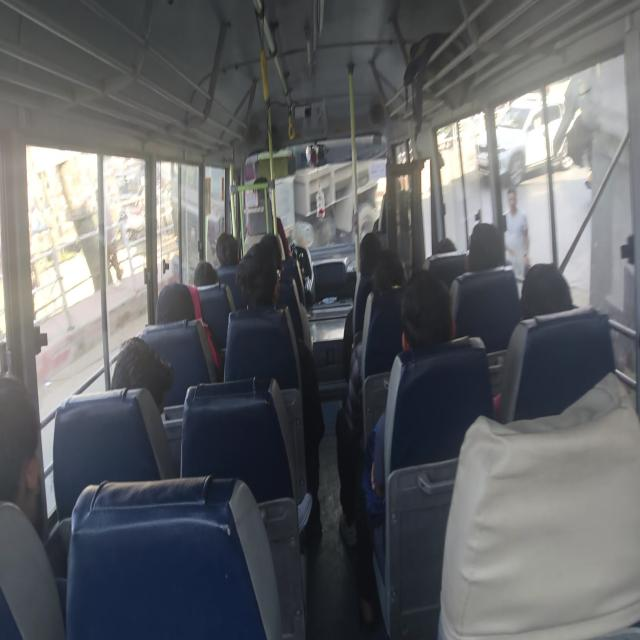person: (0, 367, 63, 539), (402, 276, 476, 414), (510, 258, 575, 342), (118, 331, 164, 424), (235, 250, 282, 322), (158, 270, 204, 322), (462, 221, 498, 285), (371, 248, 407, 300), (260, 234, 292, 288), (187, 250, 216, 294), (434, 230, 460, 272), (357, 224, 383, 256), (218, 235, 240, 266)
